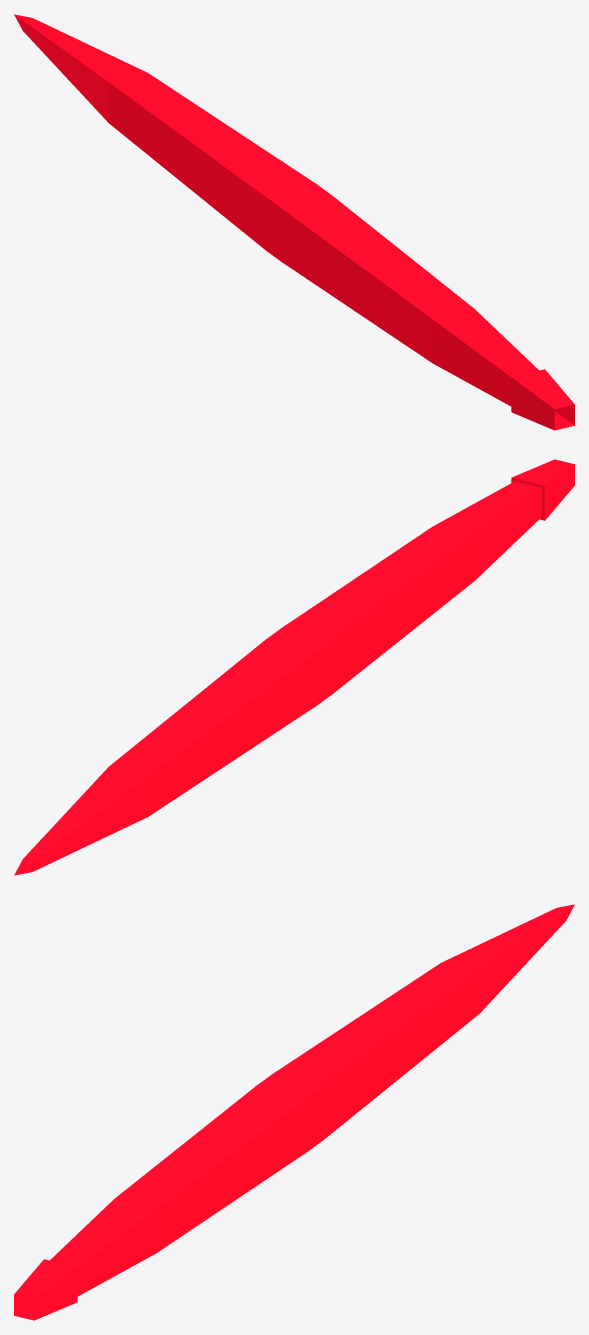
File: Projectile02.fbx
3 views of the same model, one above another, from view 1: azimuth 30°, elevation 25°; view 2: azimuth 150°, elevation 25°; view 3: azimuth 330°, elevation 25° (orthographic).
Parts seen in each view (by area): view 1: Cube; view 2: Cube; view 3: Cube.
Part boxes in pixels (x1,y1,x2,y2): Cube: [14, 14, 574, 430]; Cube: [14, 459, 574, 875]; Cube: [14, 904, 574, 1320].
Size of the model in its own units: 60 by 60 by 1118.
